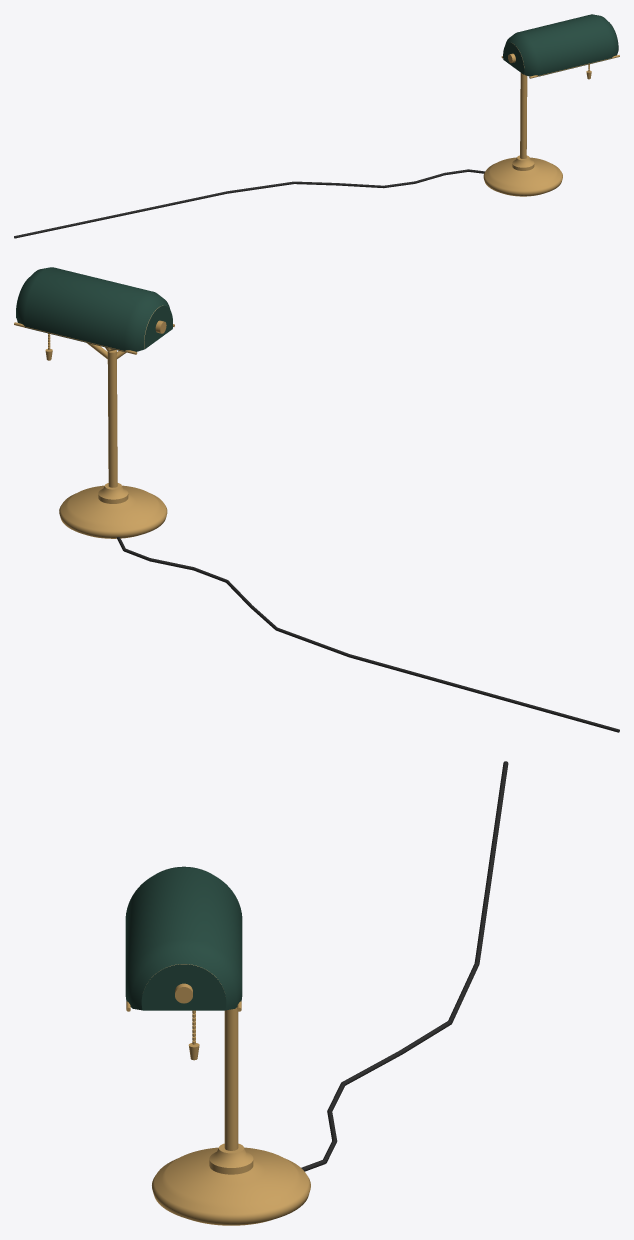
The model's file is Atelier.glb.
The picture shows the model from 3 angles, top to bottom: view 1: azimuth 30°, elevation 25°; view 2: azimuth 150°, elevation 25°; view 3: azimuth 270°, elevation 25°; orthographic projection. The views are drawn at different scales.
Parts seen in each view (by area): view 1: Enamel gallery, Weighted base, Power lead, Post, Shade end; view 2: Enamel gallery, Weighted base, Post, Power lead, Shade end; view 3: Enamel gallery, Weighted base, Shade end, Post, Power lead, Turned stem collar.
Part boxes in pixels (x1,y1,x2,y2): Enamel gallery: (505, 14, 618, 76); Weighted base: (483, 157, 562, 196); Power lead: (14, 191, 227, 238); Post: (520, 73, 527, 158); Shade end: (503, 42, 524, 74); Enamel gallery: (16, 267, 170, 351); Weighted base: (59, 485, 167, 538); Post: (107, 350, 117, 487); Power lead: (348, 654, 619, 732); Shade end: (144, 305, 172, 349); Enamel gallery: (125, 866, 242, 1010); Weighted base: (152, 1147, 310, 1225); Shade end: (141, 964, 226, 1010); Post: (224, 1007, 238, 1150); Power lead: (474, 761, 508, 963); Turned stem collar: (209, 1143, 253, 1174).
Size of the model in its own units: 7.04 by 2.08 by 2.26.
